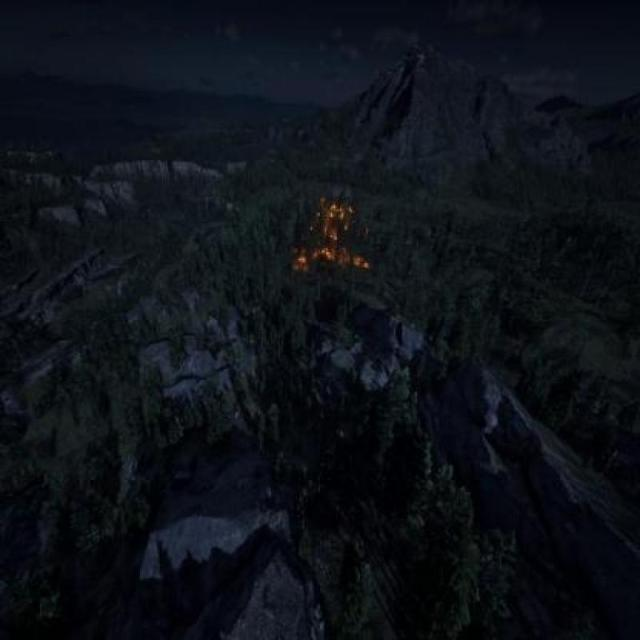Fire: (294, 186, 376, 296)
